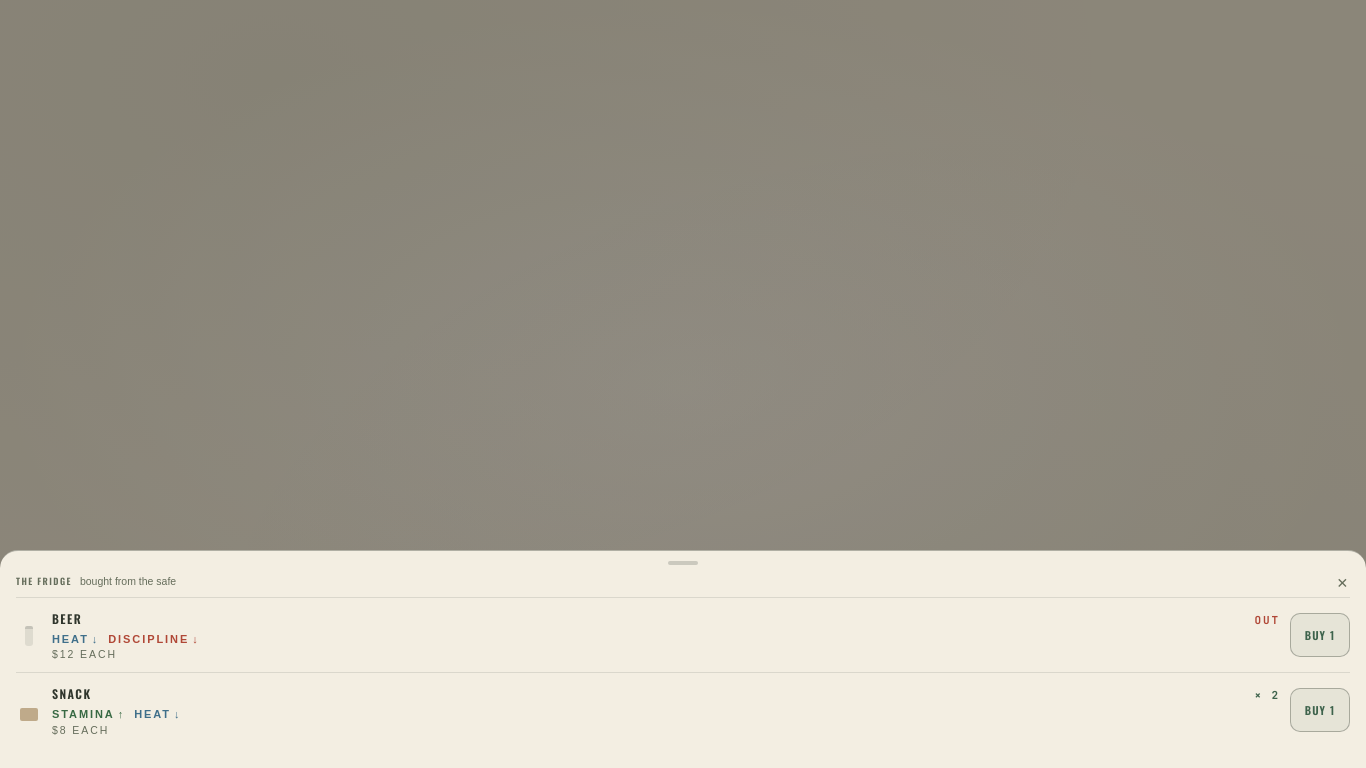
BUG-64: insufficient wallet leaves the stock unchanged and allows a retry
Click the button with aria-label "Buy 1 beer": (1320, 636) [1290, 614, 1350, 658]
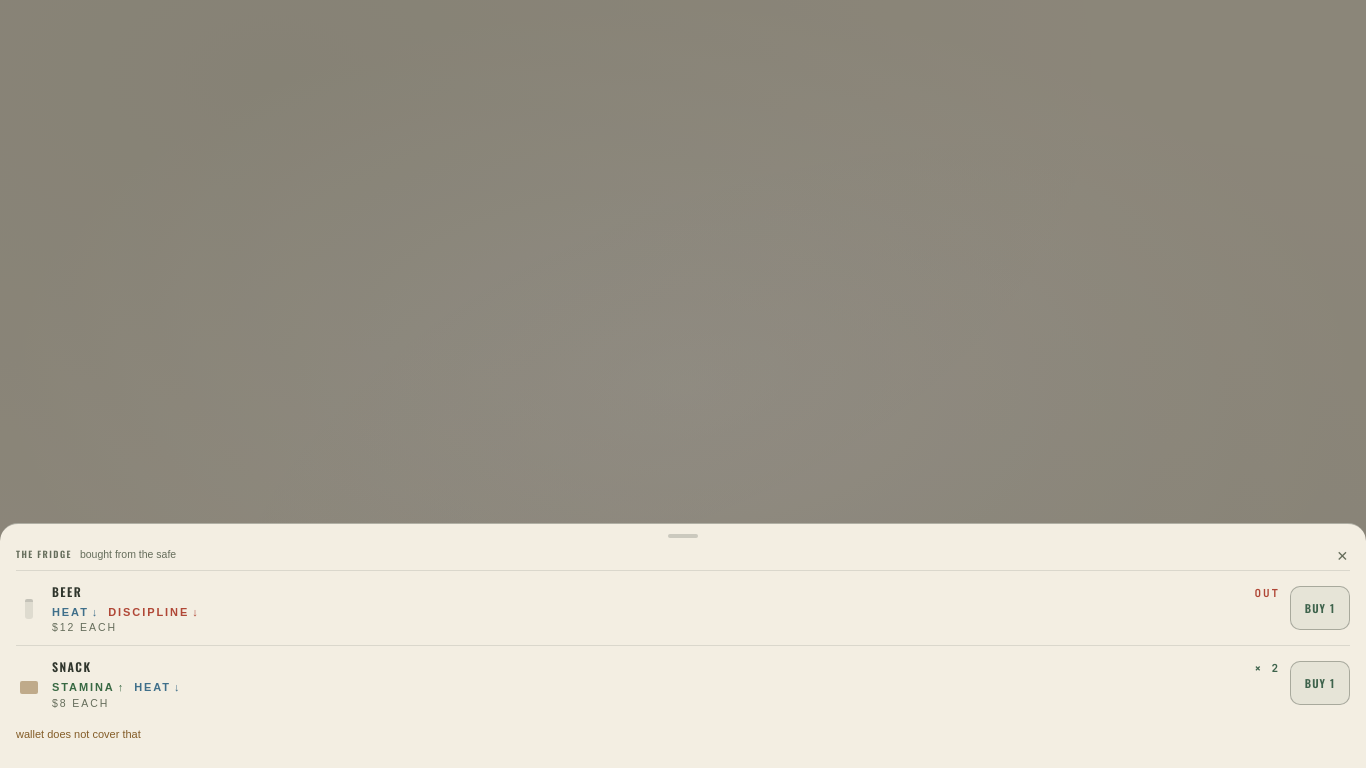
Expected: the list item with test id "fridge-shelf-beer" shows "out", [16, 583, 1280, 633]
Expected: the message reads "wallet does not cover that", [16, 728, 141, 740]
